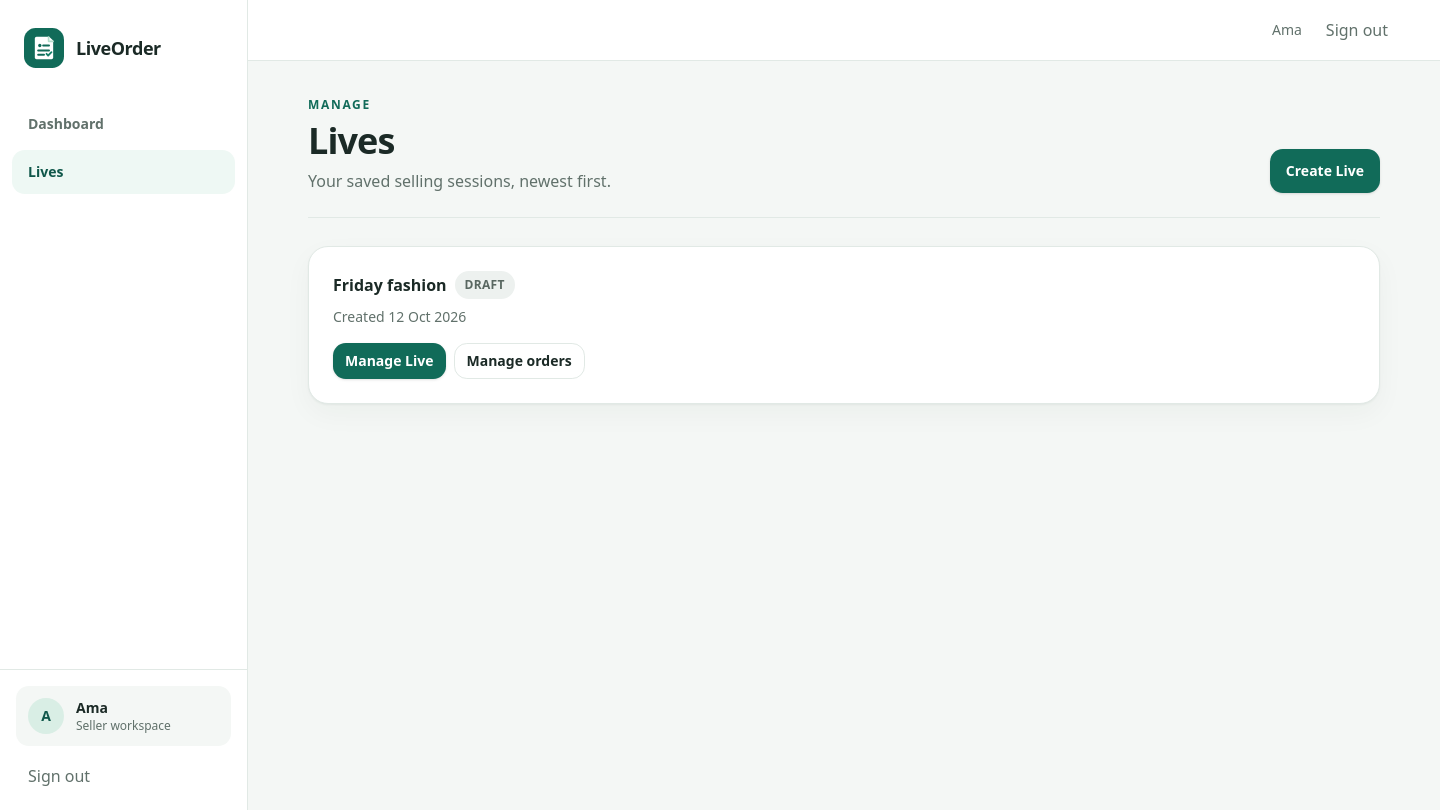
Test: seller Live management › shows the creator's Lives and opens the selected workspace
Expected: the heading "Friday fashion" is shown, [333,273,447,297]
Expected: the text "DRAFT" is shown, [455,271,515,299]
Click the link "Manage Live" at (389,361), box [333,343,446,379]
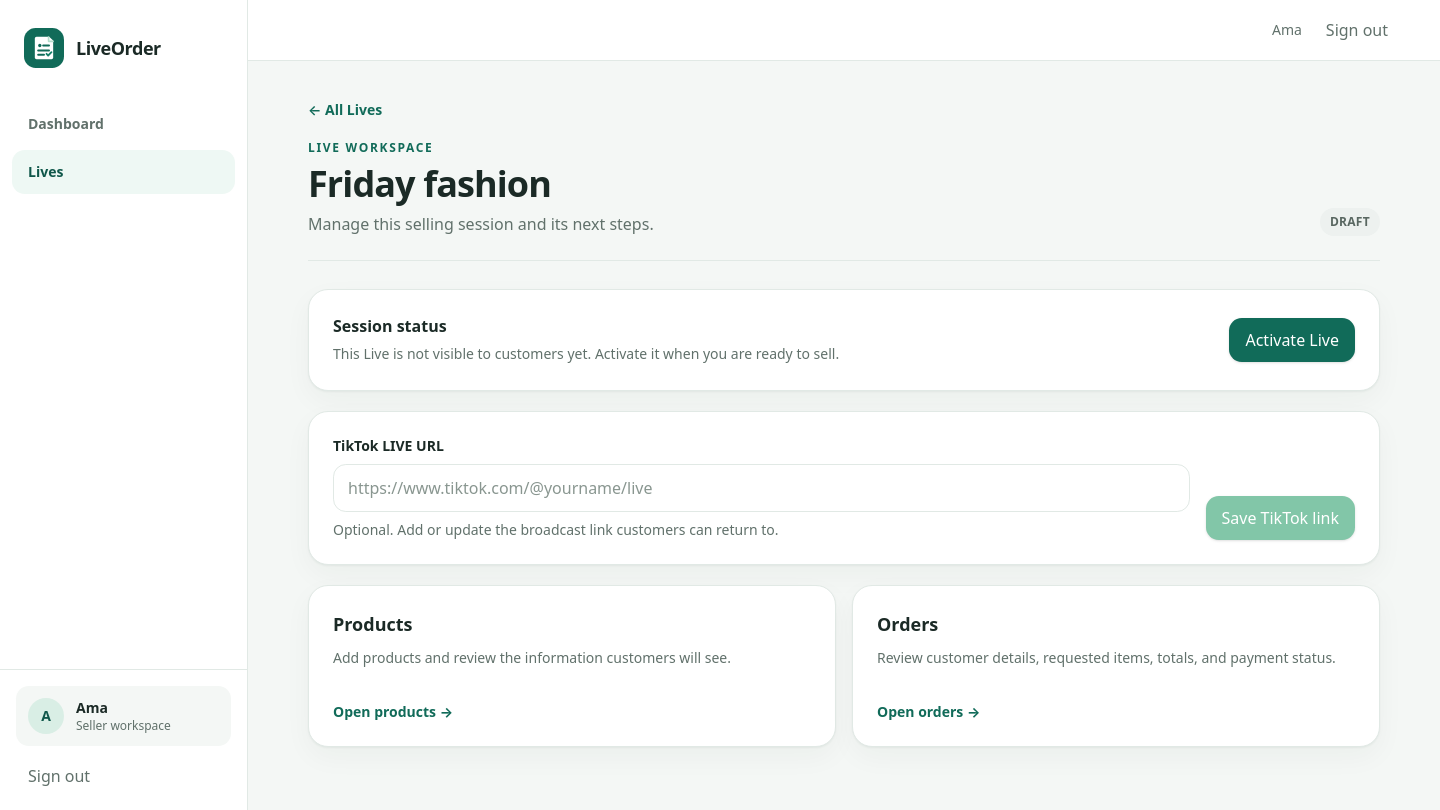
Expected: the heading "Session status" is shown, [333,315,447,337]
